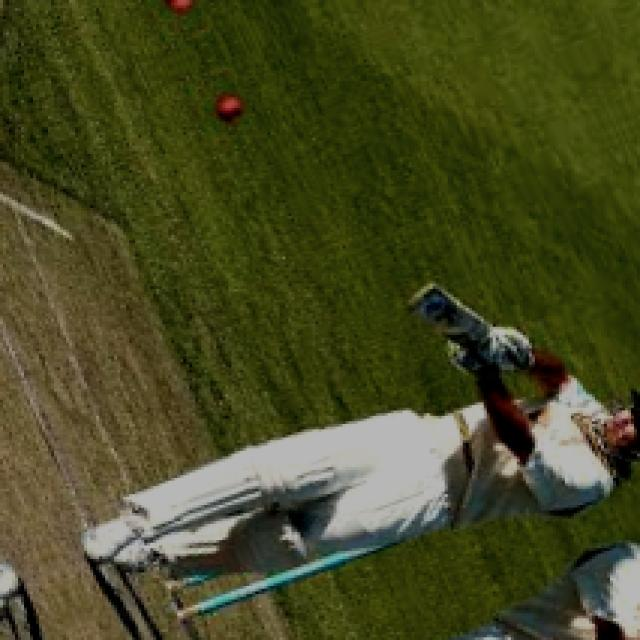toe: (404, 276, 451, 312)
